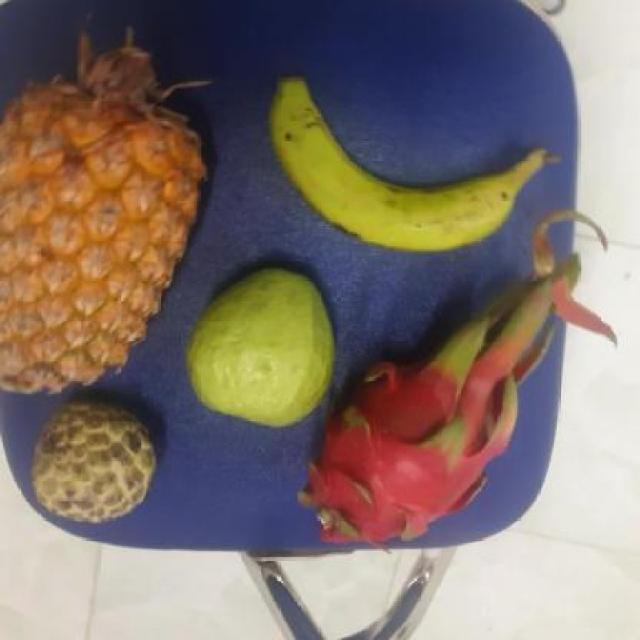banana: (272, 83, 556, 251)
dragon fruit: (306, 344, 516, 547)
guava: (186, 272, 346, 423)
sugar apple: (31, 398, 160, 520)
